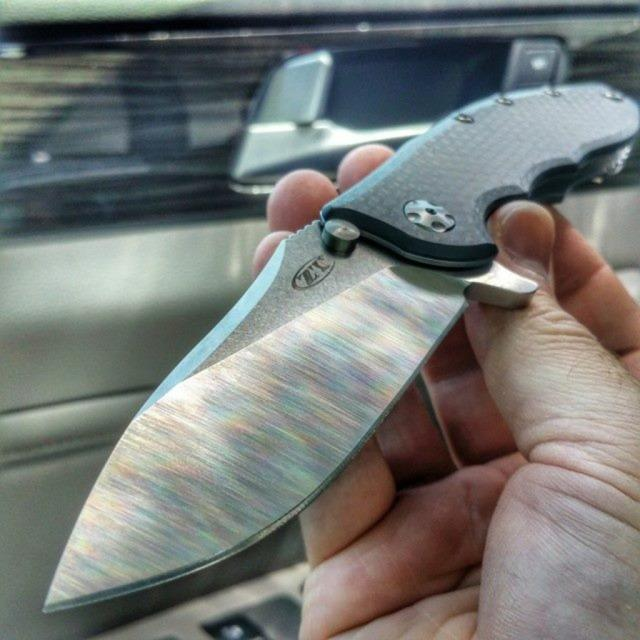Knife: (45, 84, 639, 610)
